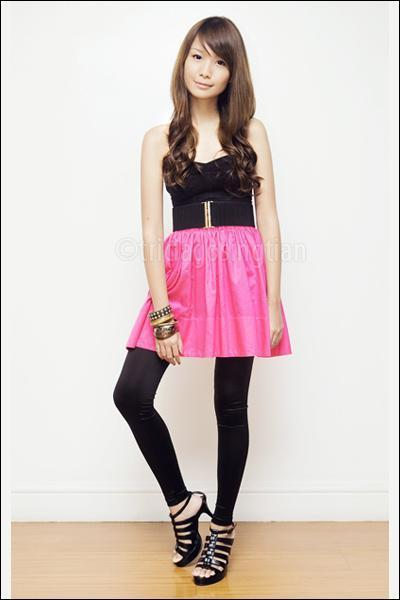shirt: (166, 153, 239, 226)
shoe: (163, 472, 236, 585)
skirt: (132, 226, 291, 357)
